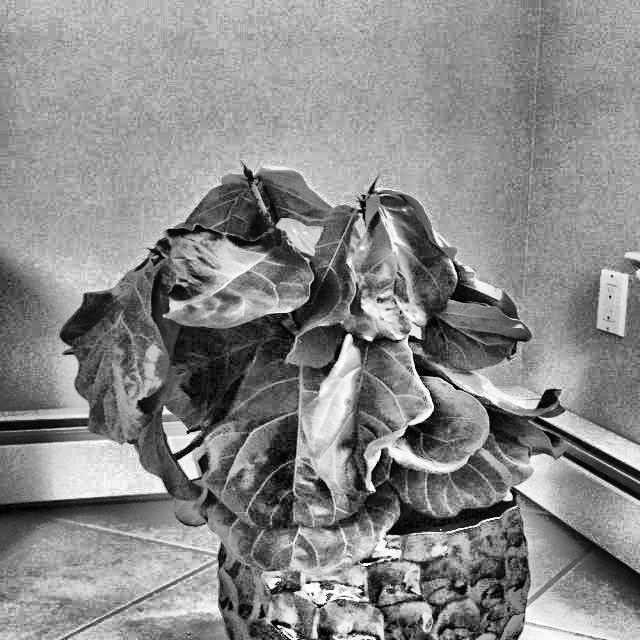plants: (64, 158, 568, 626)
